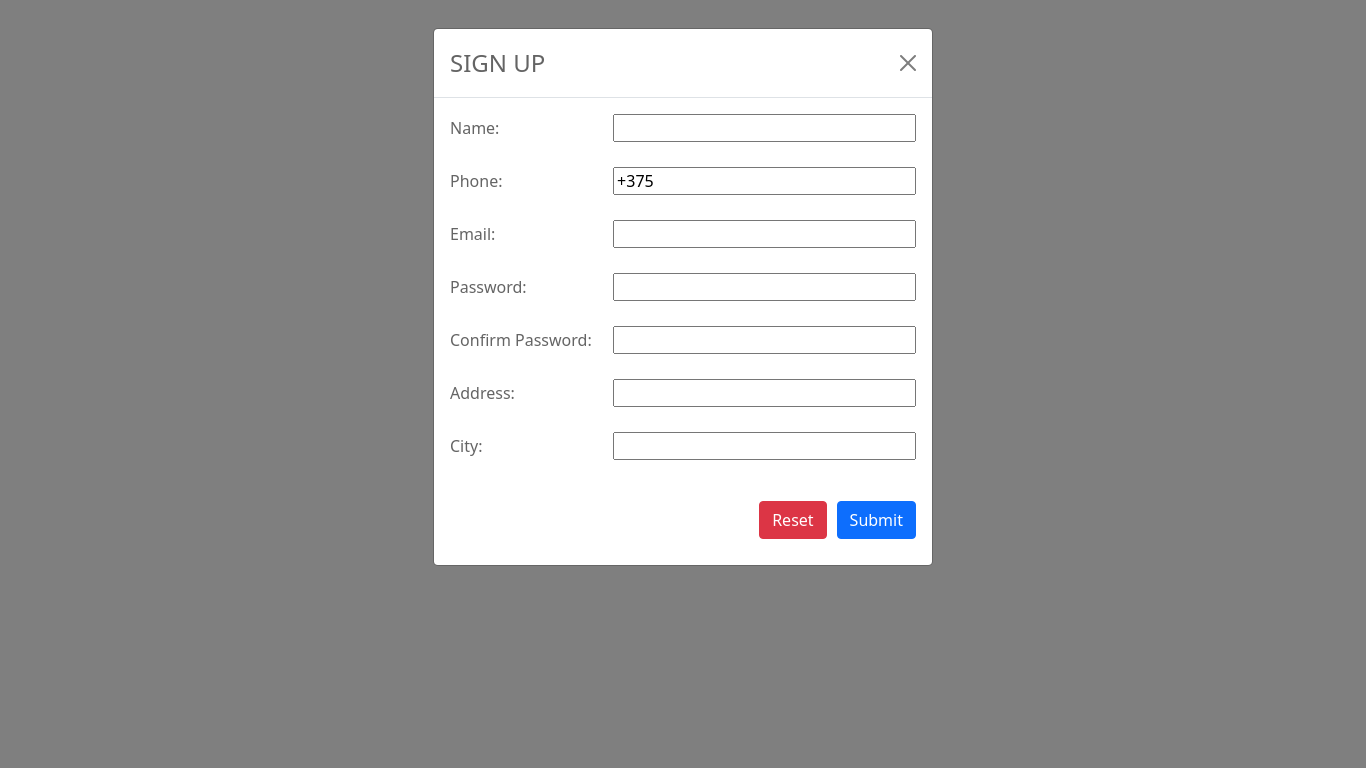
Test ModalSignUp component › should reset fields then click btn
Type "simon" into the field with test id "name".
click(765, 128); type("simon")  # box top-left (613, 114), bottom-right (916, 142)
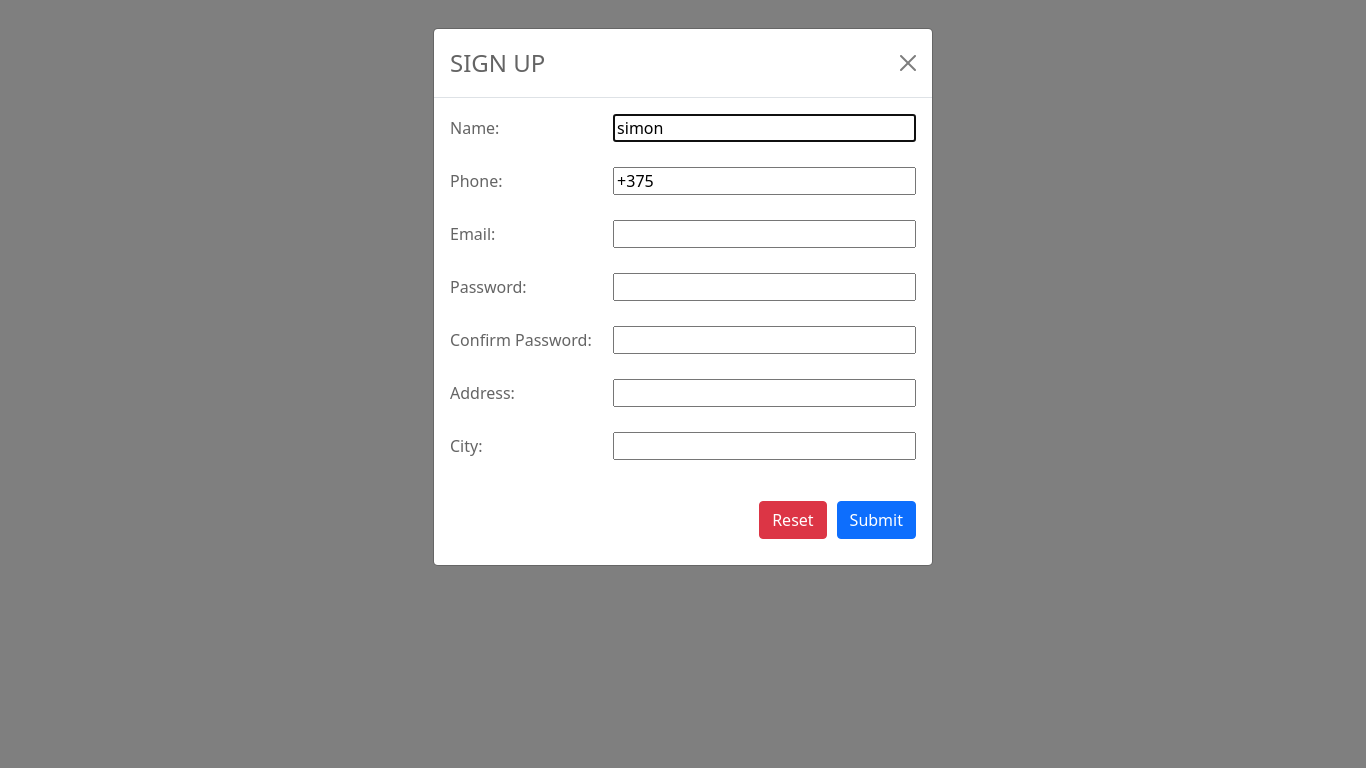
Type "296227968" into the field with test id "phone".
click(765, 181); type("296227968")  # box top-left (613, 167), bottom-right (916, 195)
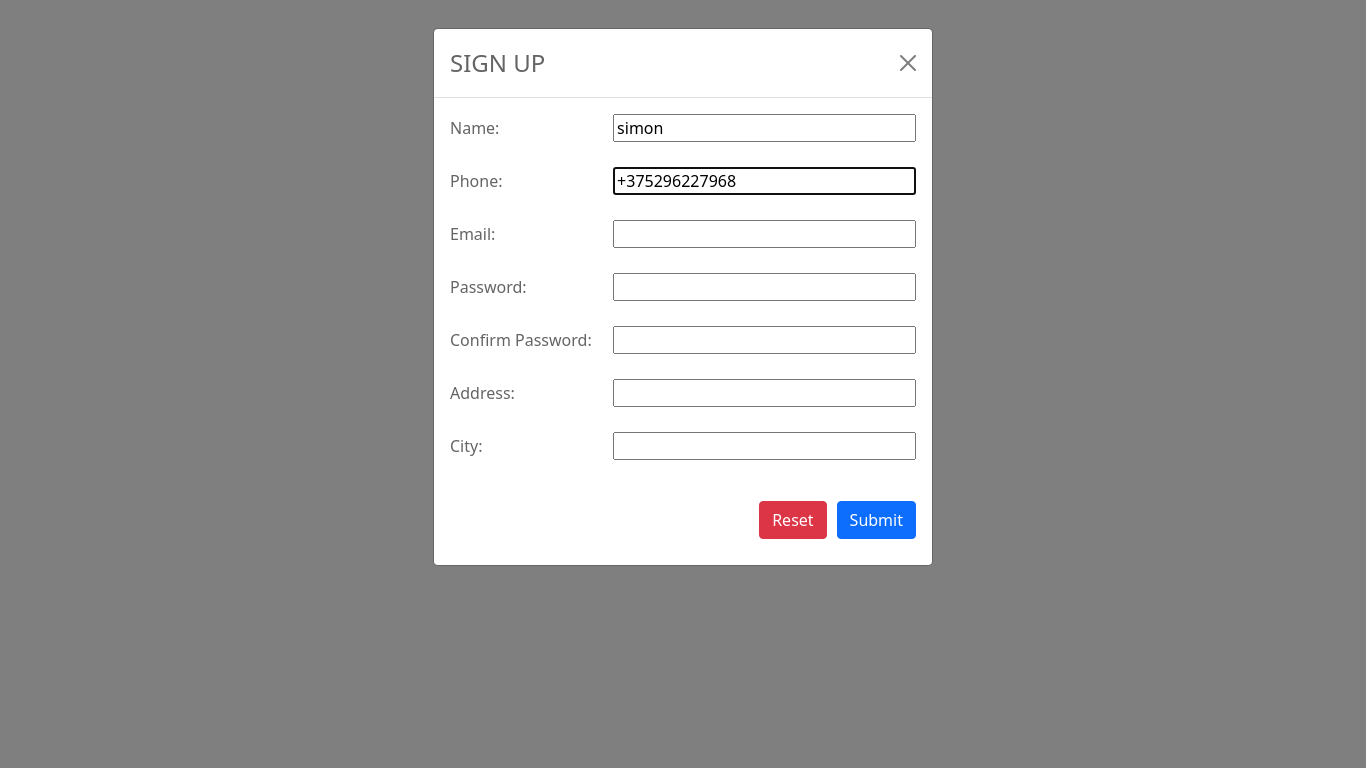
Check: the field with test id "phone" holds "+375296227968", box top-left (613, 167), bottom-right (916, 195)
Click the button "Reset".
click(793, 520)  # box top-left (759, 501), bottom-right (827, 539)
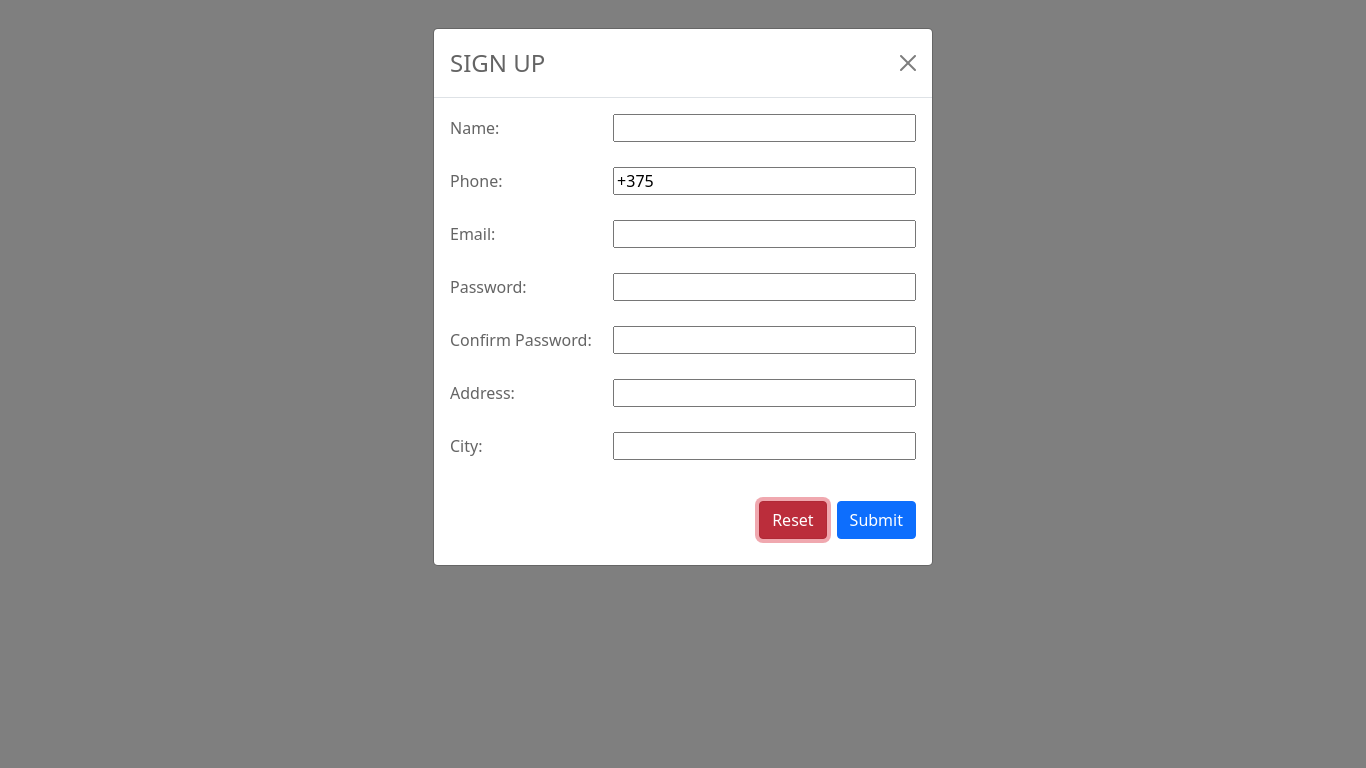
Check: the field with test id "name" is empty, box top-left (613, 114), bottom-right (916, 142)
Check: the field with test id "phone" holds "+375", box top-left (613, 167), bottom-right (916, 195)
